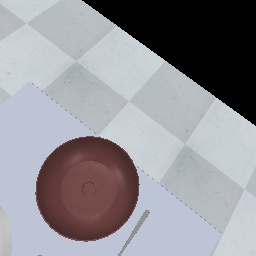Bowl: (35, 138, 143, 243)
Fork: (113, 206, 152, 254)
